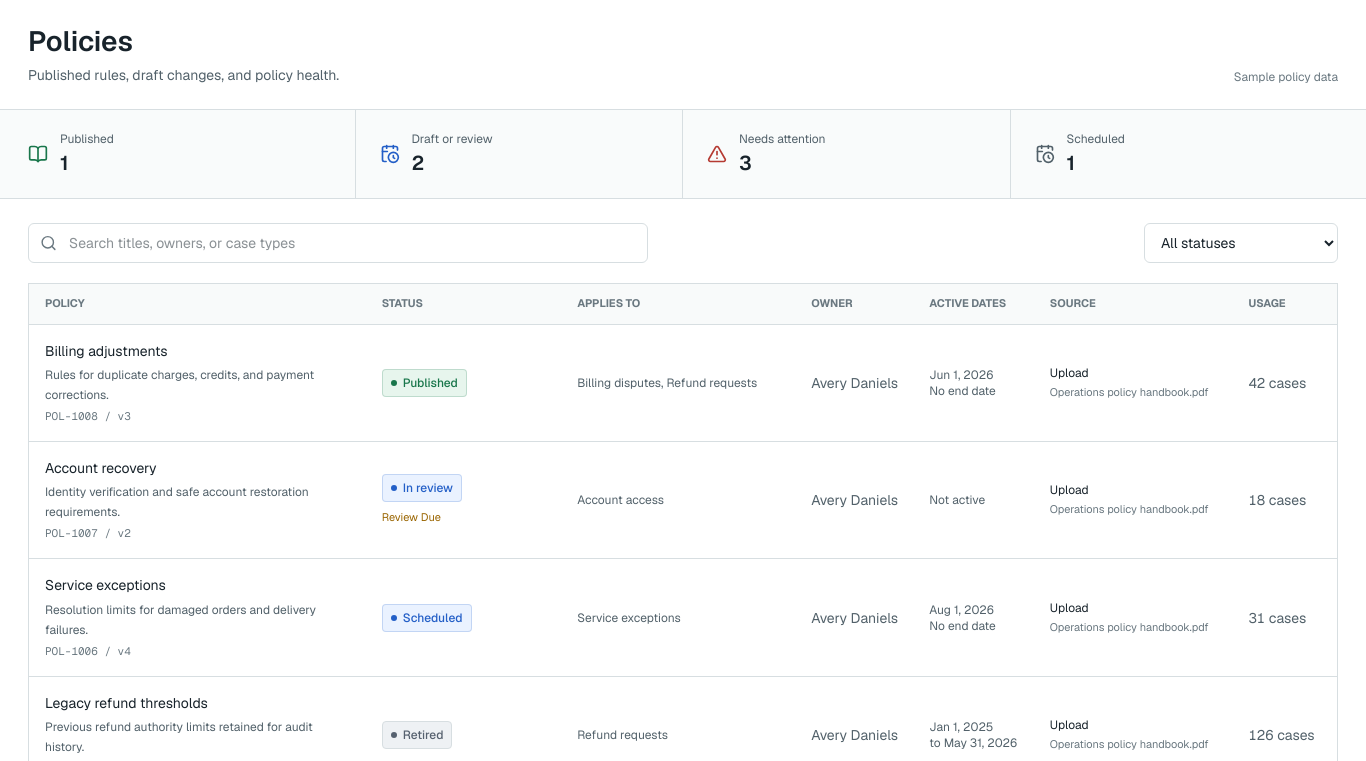
Test: PolicyLibrary › filters lifecycle states
This screenshot has width=1366, height=761.
Select "Conflict" in the dropdown named "Filter policy status" at x=1241, y=243, box [1144,223,1338,263]
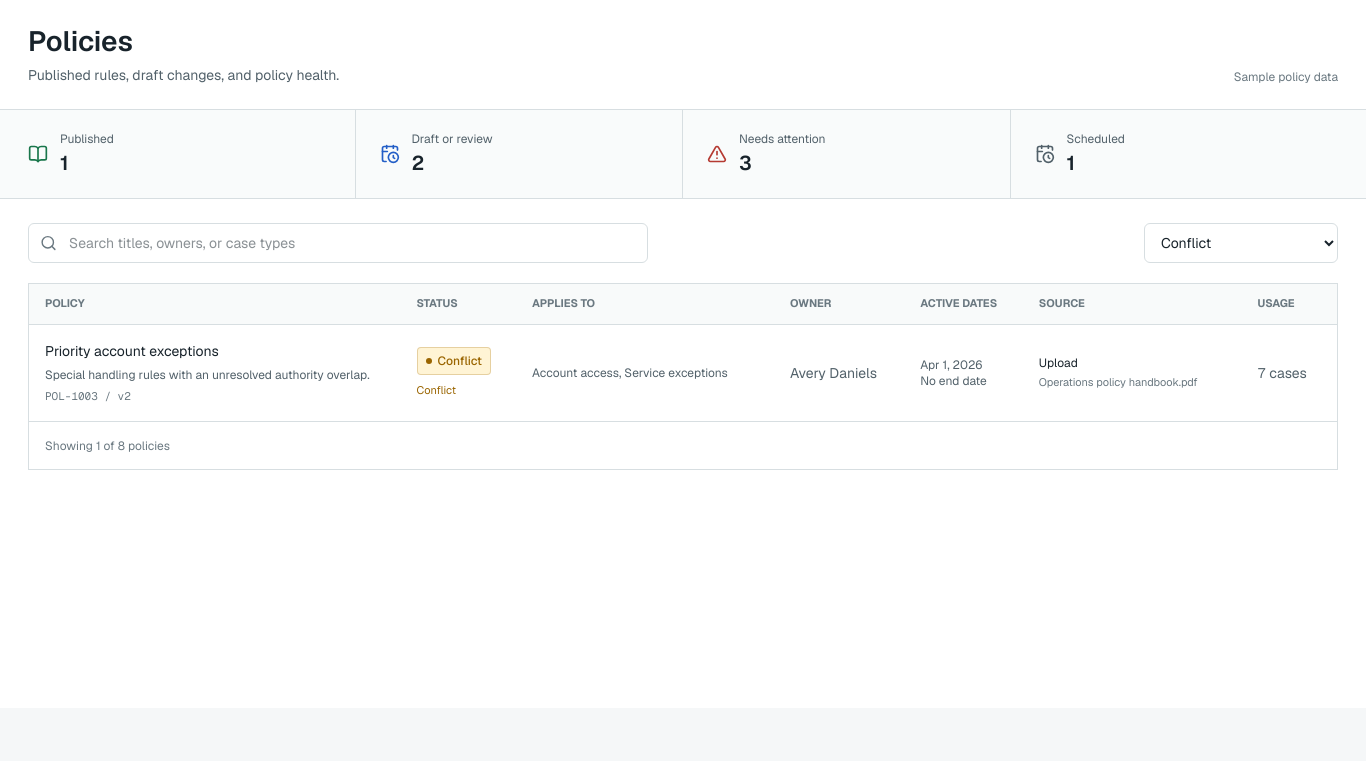
Check: the link "Priority account exceptions" is shown, box [45,342,219,360]
Check: the link "Billing adjustments" is gone
